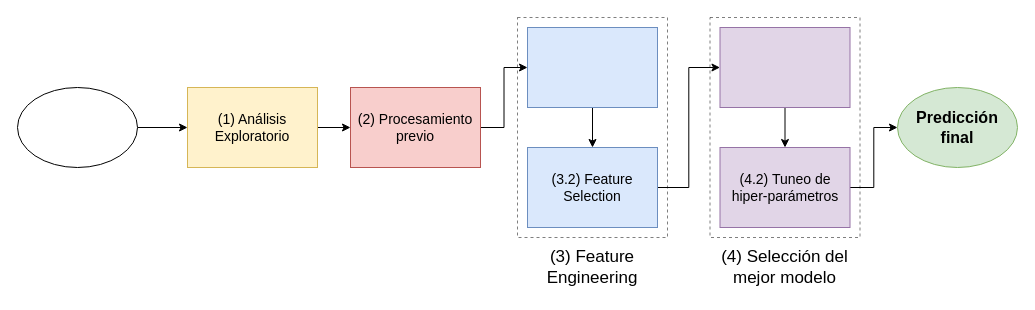
The diagram is 1035 pixels wide and 310 high, and some of its shapes have lost their labels. Here are the shapes that lost their labels. From the top down, the centre of each, then its label:
the point at 592,67: (3.1) Feature Generation
the point at 784,67: (4.1) Aplicación de Modelos
the point at 77,127: Datos
